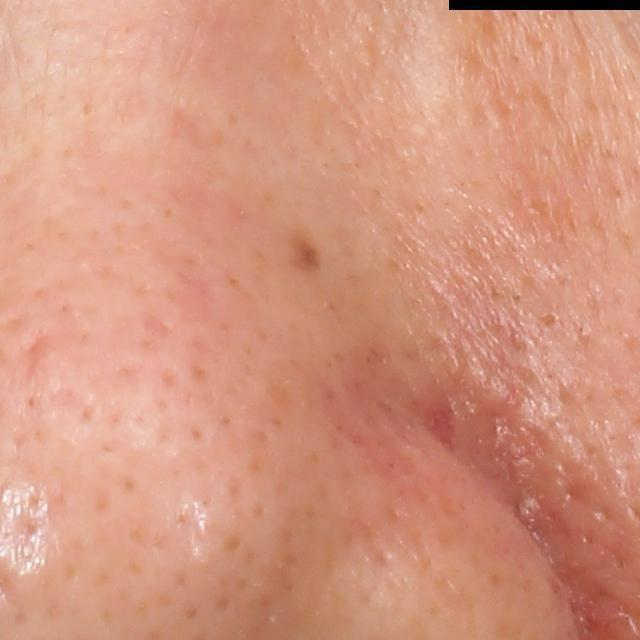comedo: (538, 311, 559, 330)
